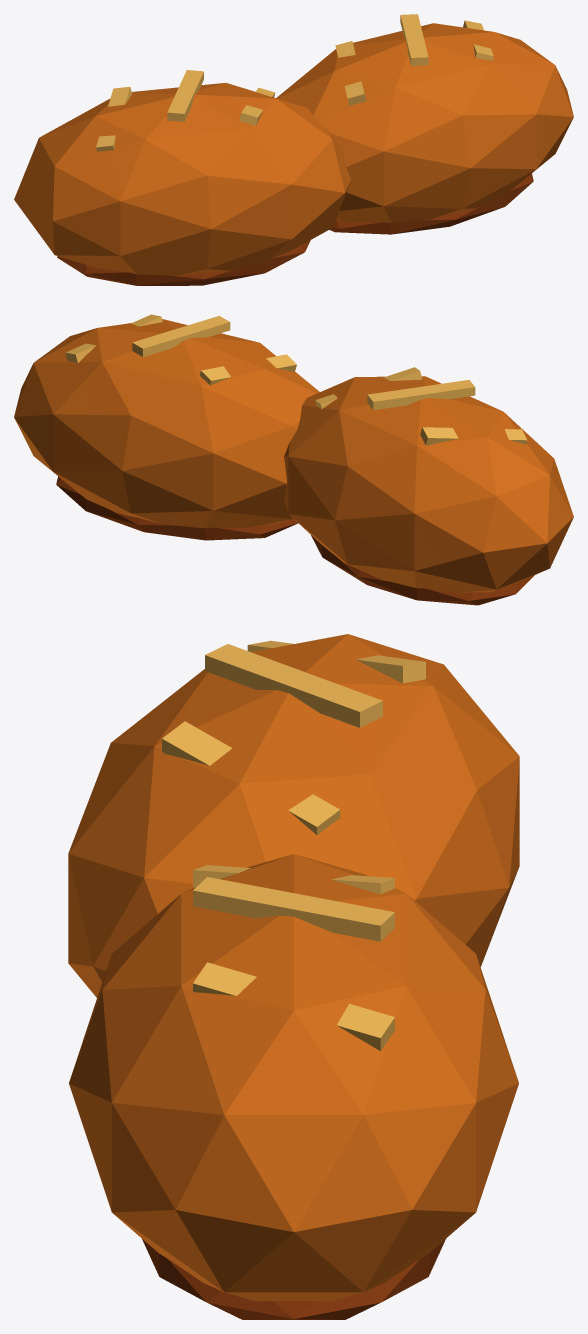
Rendered from pile-bread-2.obj.
3 renders of one model, top to bottom at view 1: azimuth 30°, elevation 25°; view 2: azimuth 150°, elevation 25°; view 3: azimuth 270°, elevation 25°, orthographic. The views are drawn at different scales.
Parts seen in each view (by area): view 1: pile-bread-2; view 2: pile-bread-2; view 3: pile-bread-2.
Boxes of the visible parts, left/top/right/bottom form: pile-bread-2: left=14, top=14, right=573, bottom=285; pile-bread-2: left=14, top=314, right=573, bottom=605; pile-bread-2: left=68, top=634, right=519, bottom=1319.
Size of the model in its own units: 0.6221 by 0.2025 by 0.2306.
1 material, 1 textured.
